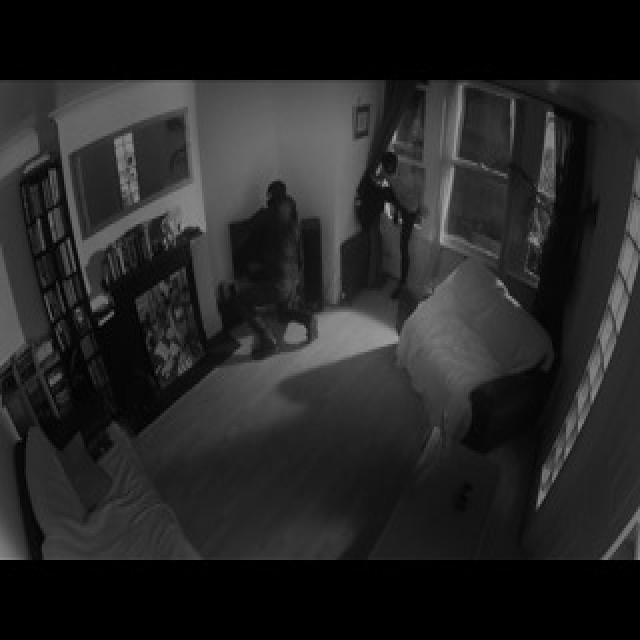burglary: (349, 144, 422, 328)
thief: (212, 167, 318, 358)
